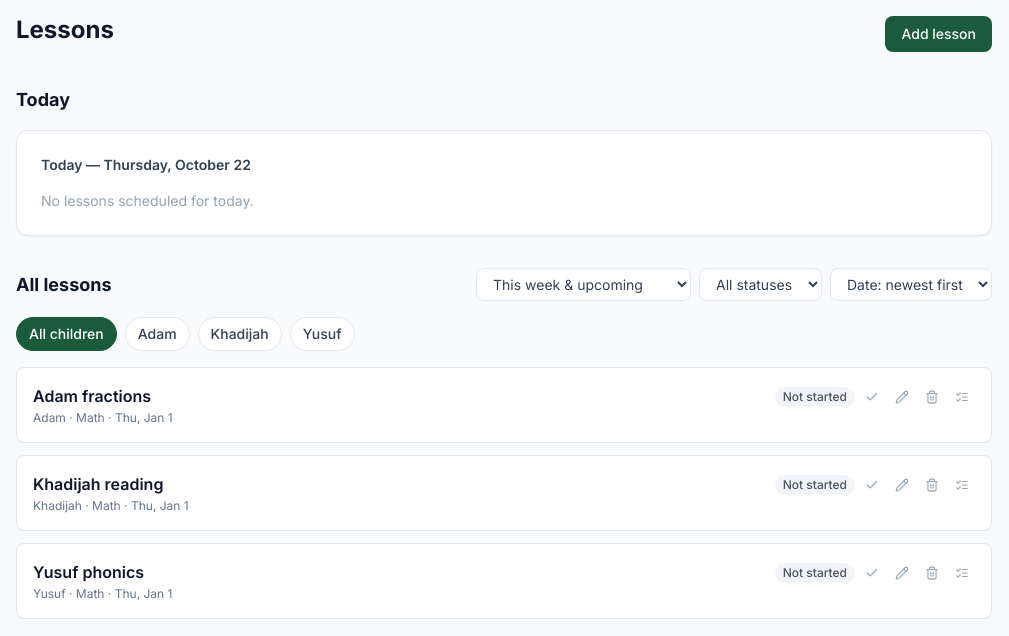
Test: LessonsPage — learner and date-range filters › shows only the selected learners' lessons
The image size is (1009, 636).
Expected: the text "Khadijah reading" is shown, [33,474,163,494]
Click the button "Adam".
click(157, 334)  # box [125,317,190,351]
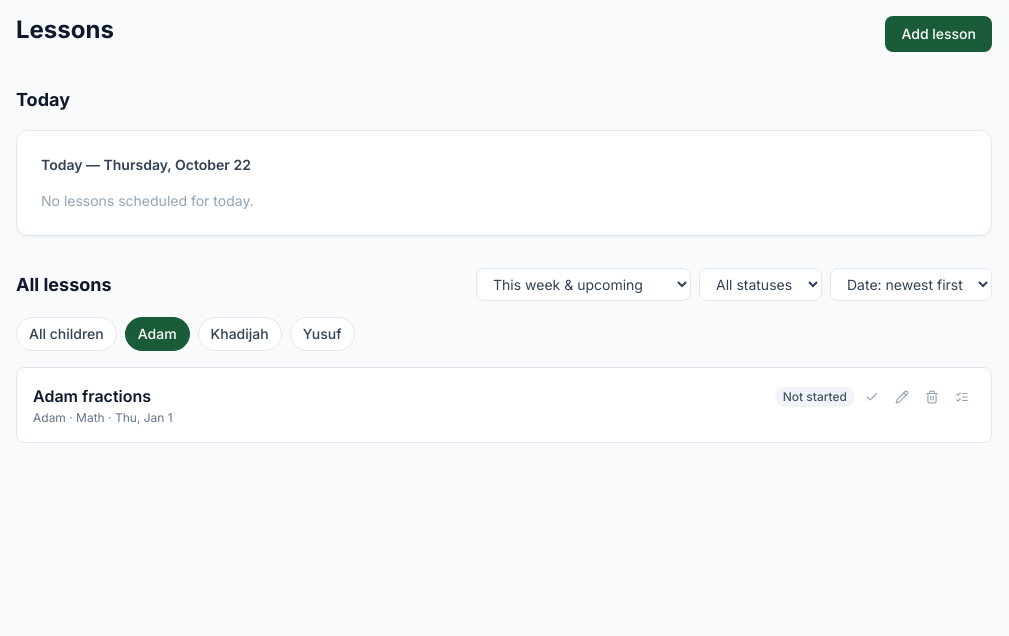
Click the button "Yusuf".
click(322, 334)  # box [290,317,355,351]
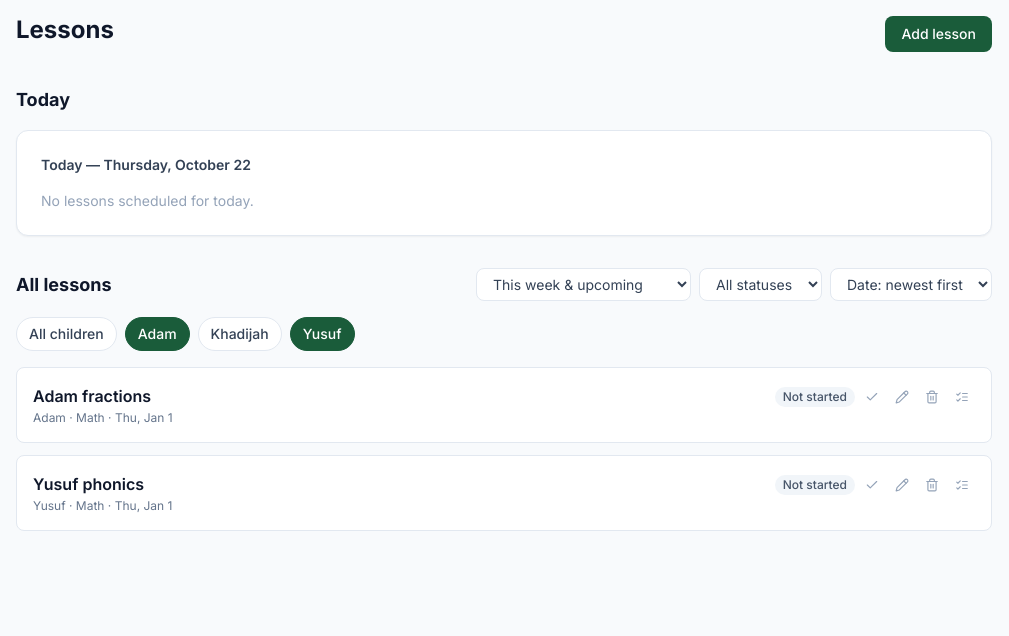
Expected: the text "Khadijah reading" is not shown
Expected: the text "Yusuf phonics" is shown, [33,474,144,494]
